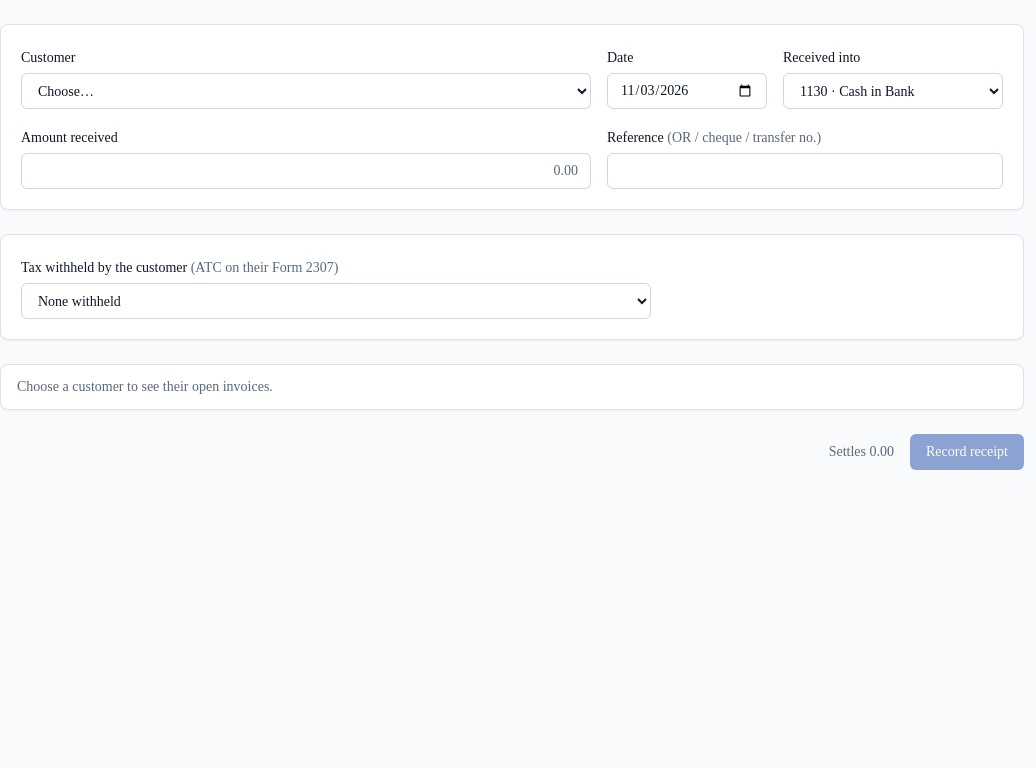
Test case: PaymentForm (receipt) › applies the receipt plus 2307 withholding to open invoices
Select "Client Corp" in the dropdown labelled "Customer" at (306, 91), box [21, 73, 591, 109]
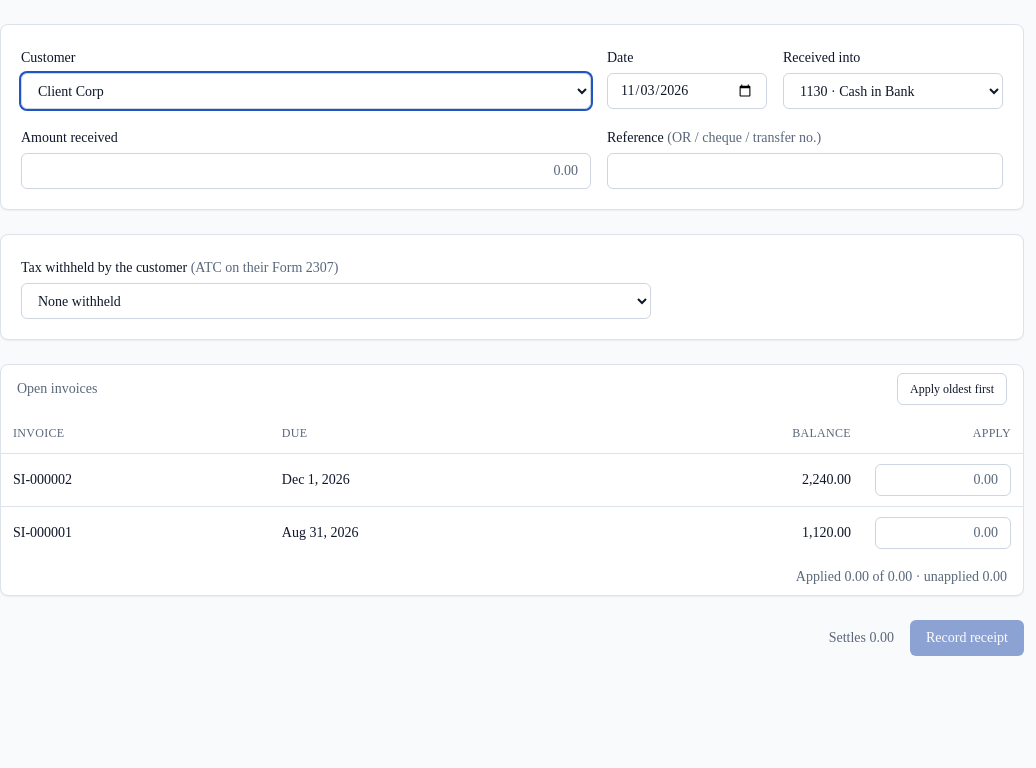
Type "3300" into the field labelled "Amount received" at (306, 171), box [21, 153, 591, 189]
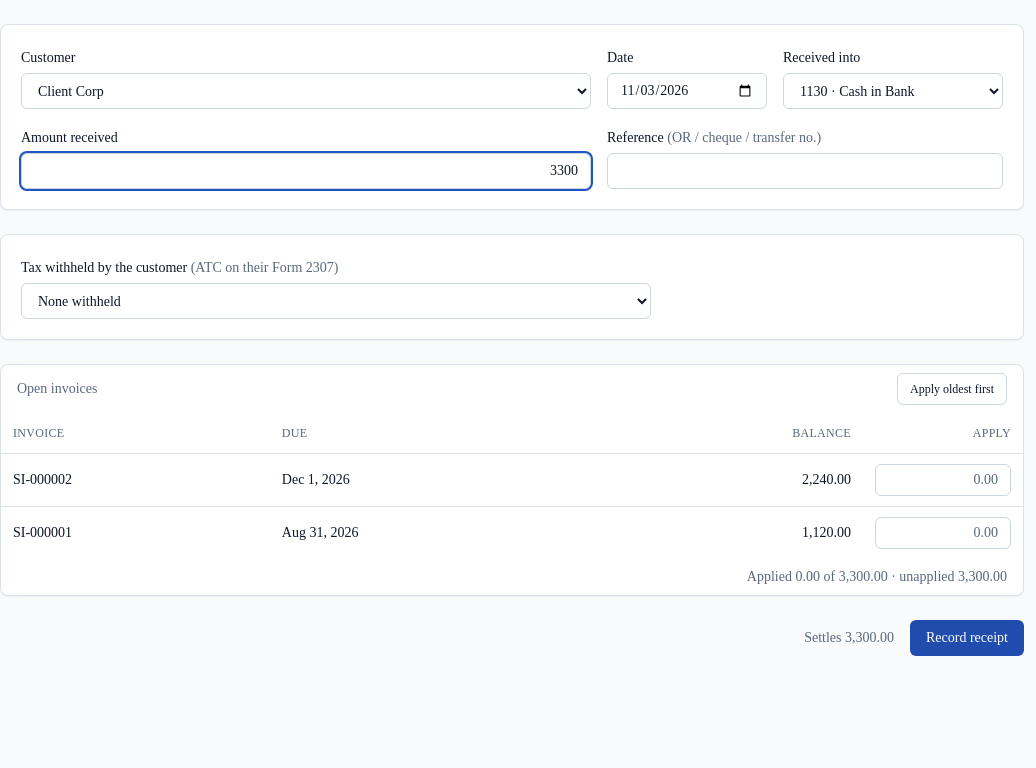
Select "WC160 · 2.00% · Services" in the dropdown labelled "Tax withheld by the customer (ATC on their Form 2307)" at (336, 301), box [21, 283, 651, 319]
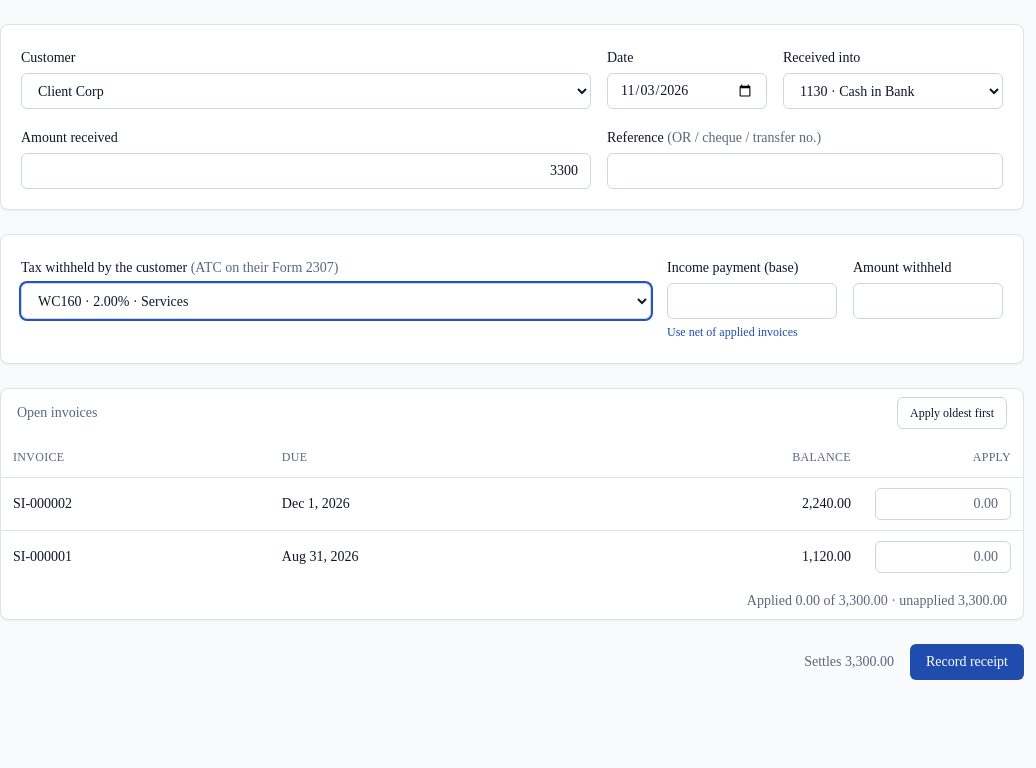
Type "3000" into the field labelled "Income payment (base)" at (752, 301), box [667, 283, 837, 319]
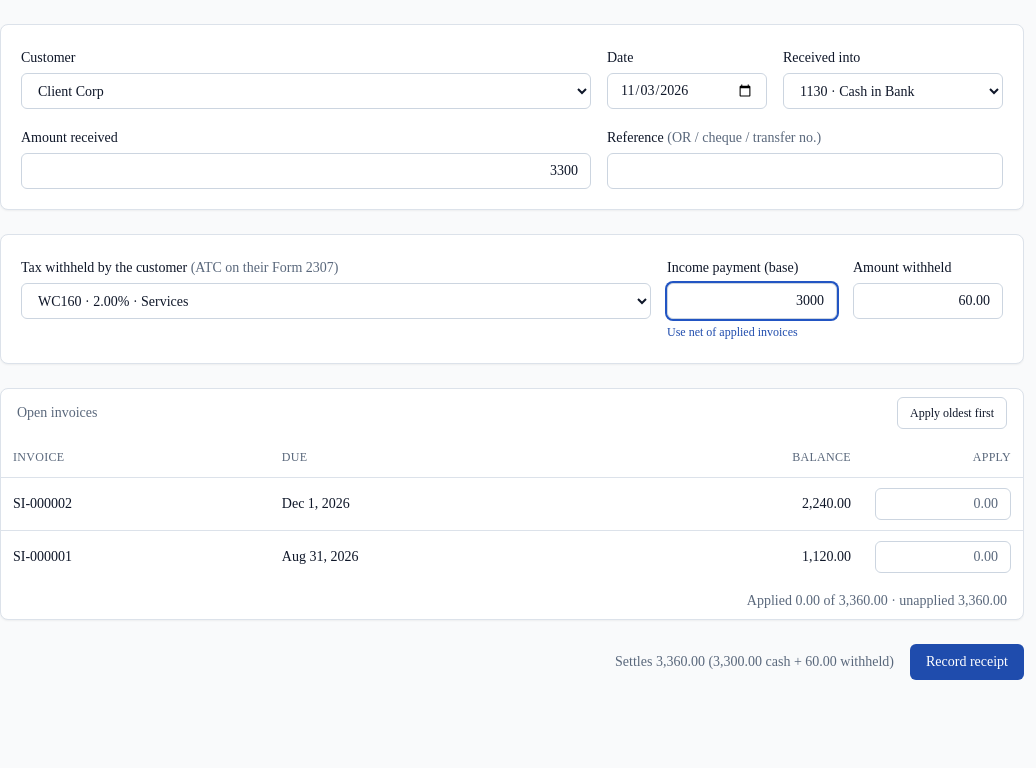
Check: the field labelled "Amount withheld" holds "60.00", box [853, 283, 1003, 319]
Click the button "Apply oldest first" at (952, 413), box [897, 397, 1007, 429]
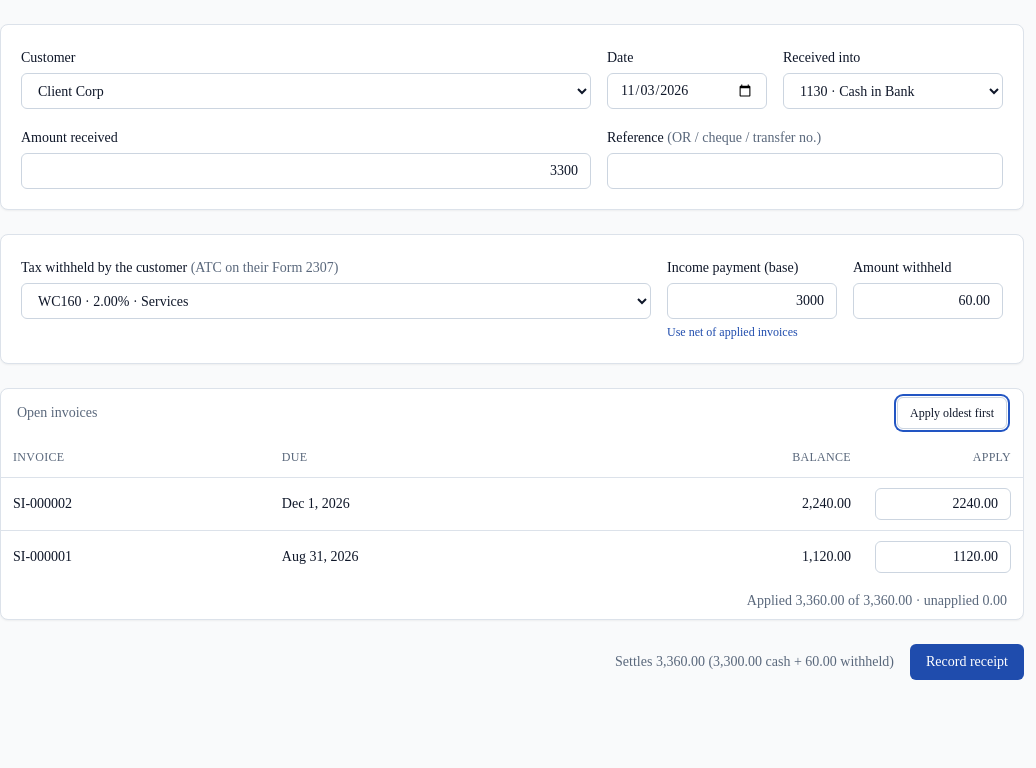
Check: the field named "Apply to SI-000001" holds "1120.00", box [875, 540, 1011, 572]
Check: the field named "Apply to SI-000002" holds "2240.00", box [875, 488, 1011, 520]
Check: the text with test id "allocation-summary" reads "Applied 3,360.00 of 3,360.00 · unapplied 0.00", box [747, 592, 1007, 608]
